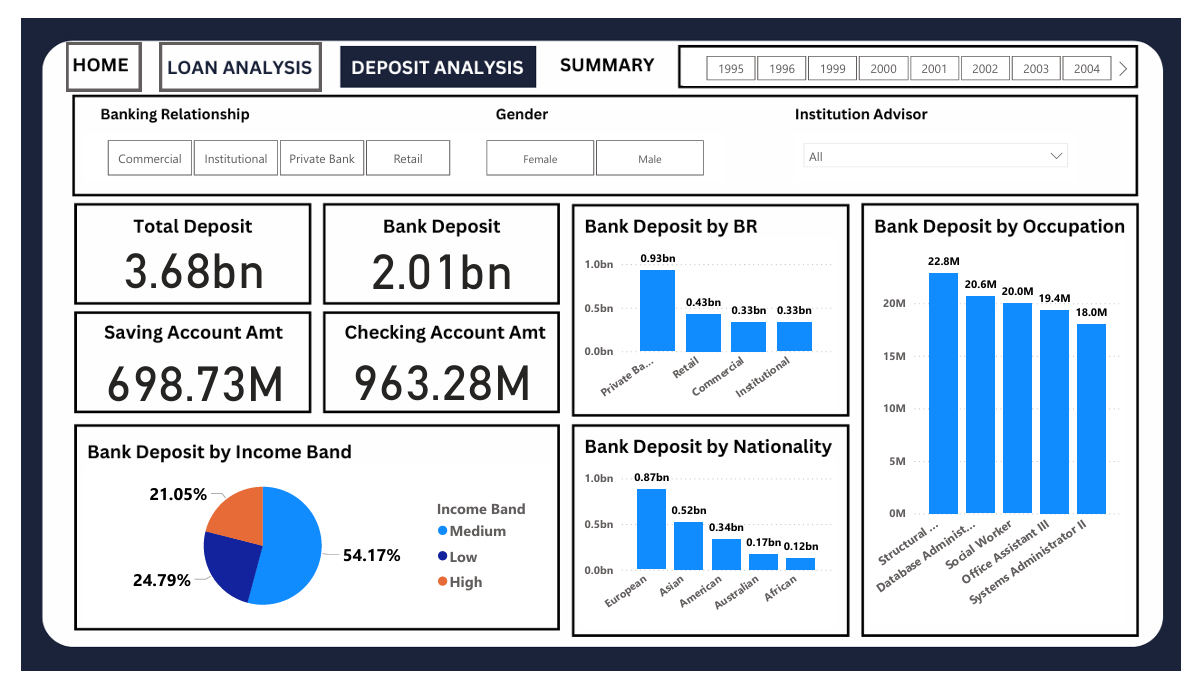

What the dashboard file says about the page in this screenshot:
{"tool":"powerbi","page":{"name":"Deposit","canvas":[1280,720],"ordinal":2},"visuals":[{"type":"card","fields":{"Values":["Banking_Clients.Total Deposit"]},"box":[68.6,236,242.9,70],"z":0},{"type":"card","fields":{"Values":["Sum(Banking_Clients.Bank Deposits)"]},"box":[341.7,237.4,242.9,70],"z":1},{"type":"card","fields":{"Values":["Sum(Banking_Clients.Saving Accounts)"]},"box":[70,360.9,242.9,70],"z":2},{"type":"card","fields":{"Values":["Sum(Banking_Clients.Checking Accounts)"]},"box":[341.7,359.5,242.9,70],"z":3},{"type":"pieChart","fields":{"Category":["Banking_Clients.Income Band"],"Y":["Sum(Banking_Clients.Bank Deposits)"]},"box":[68.6,492.6,516,177],"z":4},{"type":"columnChart","fields":{"Category":["Banking Relationship.Banking Relationship"],"Y":["Sum(Banking_Clients.Bank Deposits)"]},"box":[616.1,242.9,282.7,188],"z":5},{"type":"columnChart","fields":{"Category":["Banking_Clients.Nationality"],"Y":["Sum(Banking_Clients.Bank Deposits)"]},"box":[616.1,484.4,282.7,188],"z":6},{"type":"columnChart","fields":{"Category":["Banking_Clients.Occupation"],"Y":["Sum(Banking_Clients.Bank Deposits)"]},"box":[935.9,242.9,282.7,426.8],"z":7},{"type":"slicer","fields":{"Values":["Banking_Clients.Year Of Join"]},"box":[729.9,33.8,497.1,39.8],"z":8},{"type":"slicer","fields":{"Values":["Banking Relationship.Banking Relationship"]},"box":[68.8,126.7,428.3,53.1],"z":9},{"type":"slicer","fields":{"Values":["Gender.Gender"]},"box":[487.4,126.7,289.5,53.1],"z":10},{"type":"slicer","fields":{"Values":["Investment Advisor.Investment Advisor"]},"box":[853,126.7,312.5,53.1],"z":11},{"type":"actionButton","box":[49.4,26.1,82.3,53.5],"z":12},{"type":"actionButton","box":[152.3,26.1,178.4,53.5],"z":13}]}

Visuals, with their boxes in screenshot pixels (x1, y1, x2, y2), scaled from the page's 1280x720 canvas onto the 1200x690 screenshot:
card - Banking_Clients.Total Deposit: 64,226,292,293
card - Sum(Banking_Clients.Bank Deposits): 320,228,548,295
card - Sum(Banking_Clients.Saving Accounts): 66,346,293,413
card - Sum(Banking_Clients.Checking Accounts): 320,345,548,412
pieChart - Banking_Clients.Income Band x Sum(Banking_Clients.Bank Deposits): 64,472,548,642
columnChart - Banking Relationship.Banking Relationship x Sum(Banking_Clients.Bank Deposits): 578,233,843,413
columnChart - Banking_Clients.Nationality x Sum(Banking_Clients.Bank Deposits): 578,464,843,644
columnChart - Banking_Clients.Occupation x Sum(Banking_Clients.Bank Deposits): 877,233,1142,642
slicer - Banking_Clients.Year Of Join: 684,32,1150,71
slicer - Banking Relationship.Banking Relationship: 64,121,466,172
slicer - Gender.Gender: 457,121,728,172
slicer - Investment Advisor.Investment Advisor: 800,121,1093,172
actionButton: 46,25,123,76
actionButton: 143,25,310,76
